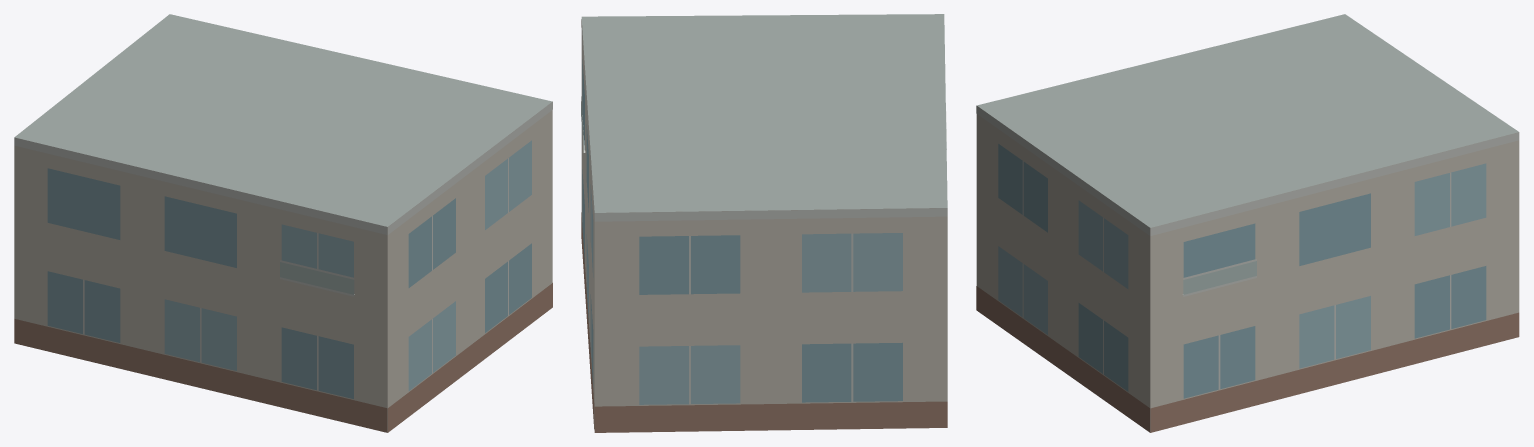
The model's file is survey-upis-32650252.glb.
3 renders of one model, left to right at view 1: azimuth 30°, elevation 25°; view 2: azimuth 150°, elevation 25°; view 3: azimuth 270°, elevation 25°, orthographic. The views are drawn at different scales.
Visible parts, largest first — view 1: survey-upis-32650252.tmp; view 2: survey-upis-32650252.tmp; view 3: survey-upis-32650252.tmp.
Boxes of the visible parts, left/top/right/bottom form: survey-upis-32650252.tmp: left=14, top=14, right=552, bottom=432; survey-upis-32650252.tmp: left=581, top=14, right=947, bottom=432; survey-upis-32650252.tmp: left=976, top=14, right=1519, bottom=432.
Bounding box in the file's own units: 13.67 × 6.1 × 14.65.
